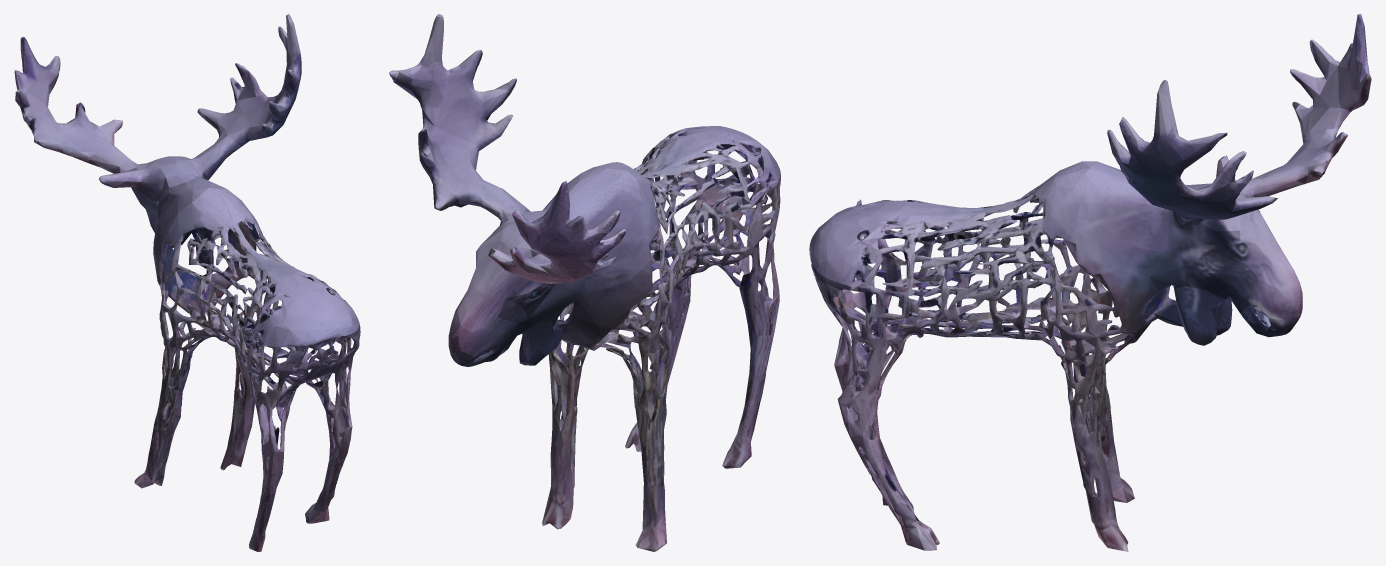
Rendered from Lose.fbx.
3 views of the same model, side by side, from view 1: azimuth 30°, elevation 25°; view 2: azimuth 150°, elevation 25°; view 3: azimuth 270°, elevation 25° (orthographic). The views are drawn at different scales.
Parts seen in each view (by area): view 1: Lose; view 2: Lose; view 3: Lose.
Part boxes in pixels (x1,y1,x2,y2): Lose: [14, 14, 360, 551]; Lose: [389, 14, 780, 551]; Lose: [809, 14, 1371, 551].
Bounding box in the file's own units: 137 × 240 × 237.
1 material, 1 textured.
